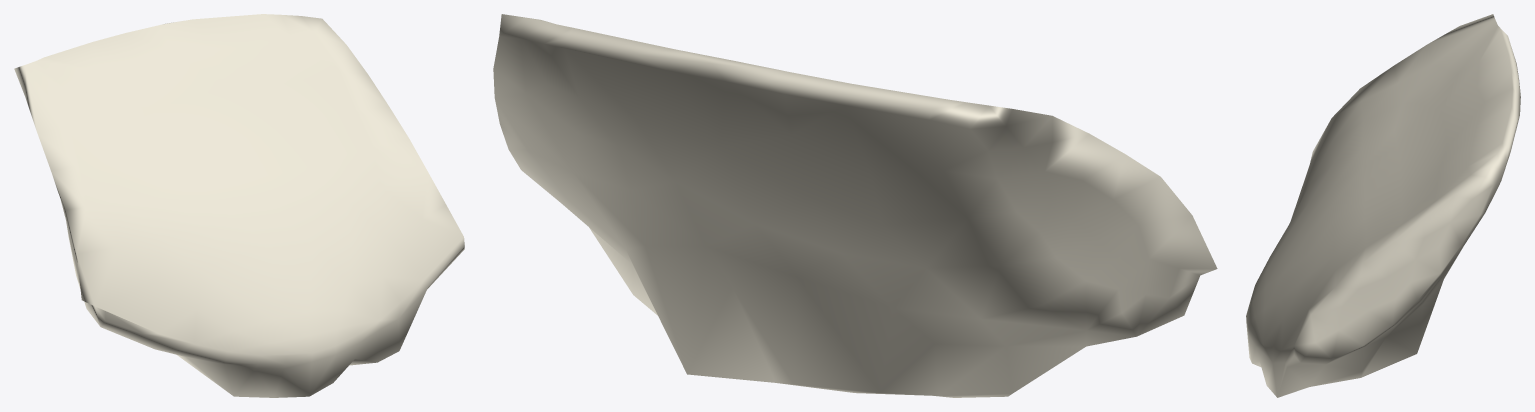
Rendered from fma75752_mm966.glb.
3 renders of one model, left to right at view 1: azimuth 30°, elevation 25°; view 2: azimuth 150°, elevation 25°; view 3: azimuth 270°, elevation 25°, orthographic. The views are drawn at different scales.
Parts seen in each view (by area): view 1: FMA75752_MM966; view 2: FMA75752_MM966; view 3: FMA75752_MM966.
Part boxes in pixels (x1,y1,x2,y2): FMA75752_MM966: (14, 14, 464, 397); FMA75752_MM966: (493, 14, 1217, 397); FMA75752_MM966: (1246, 14, 1520, 397).
Size of the model in its own units: 0.00997 by 0.00711 by 0.00656.
